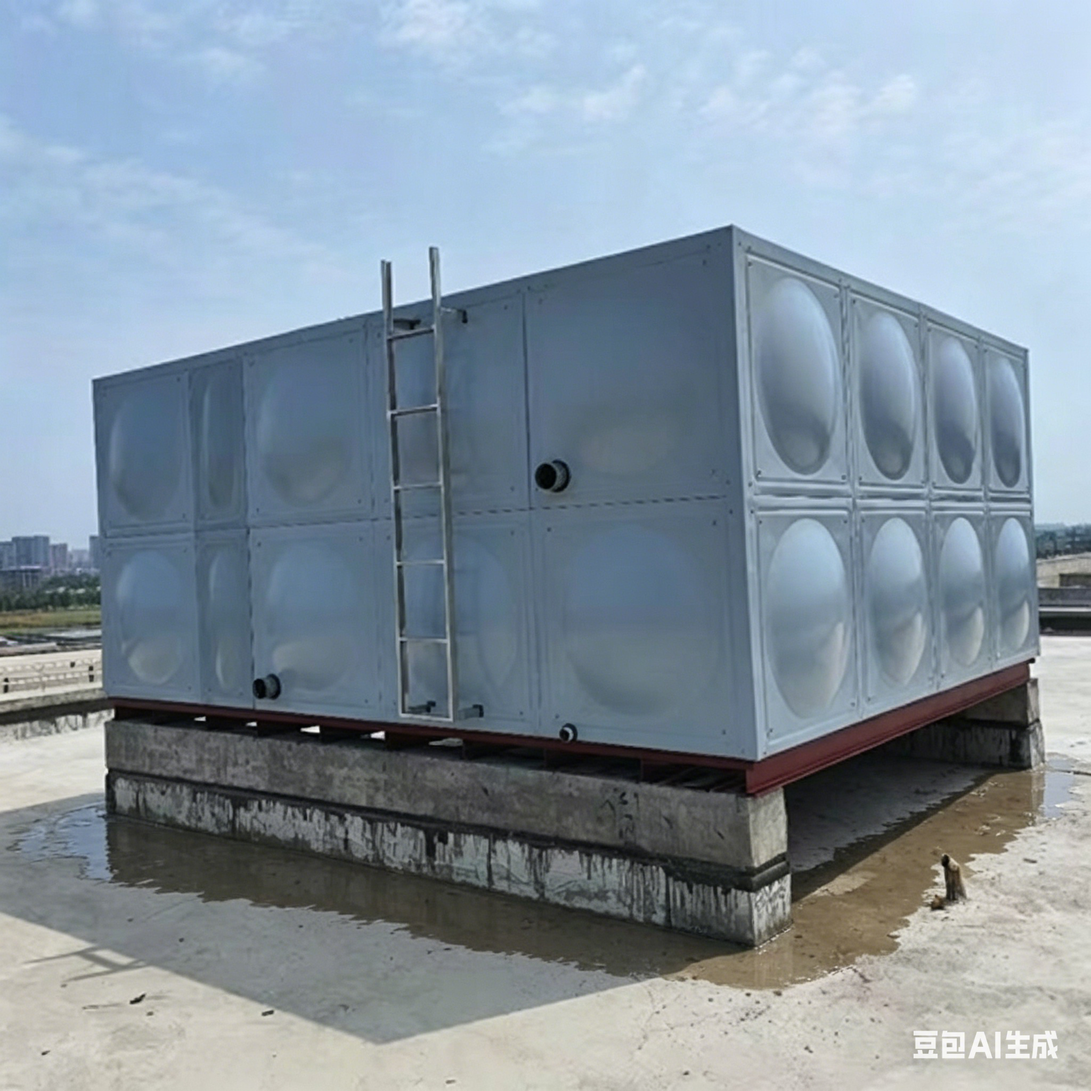Leakage: (519, 902, 804, 975), (54, 814, 269, 894), (297, 852, 503, 935), (806, 866, 915, 945), (977, 766, 1081, 816), (884, 826, 1009, 854)
